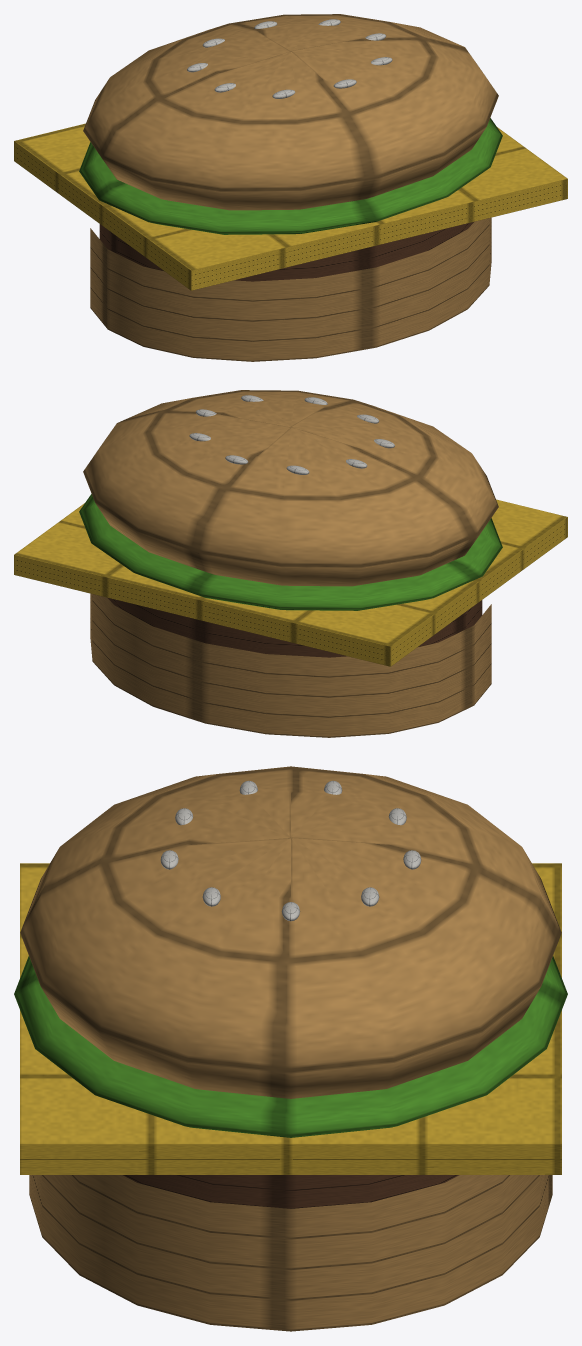
File: burger_combo.glb
3 views of the same model, one above another, from view 1: azimuth 30°, elevation 25°; view 2: azimuth 150°, elevation 25°; view 3: azimuth 270°, elevation 25° (orthographic). The views are drawn at different scales.
Visible parts, largest first — view 1: Top bun, Bottom bun, Melted cheese, Lettuce layer, Beef patty; view 2: Top bun, Bottom bun, Melted cheese, Lettuce layer, Beef patty; view 3: Top bun, Bottom bun, Melted cheese, Lettuce layer, Beef patty.
Part boxes in pixels (<box>): Top bun: <box>83,14,498,210</box>; Bottom bun: <box>90,217,491,361</box>; Melted cheese: <box>14,123,567,290</box>; Lettuce layer: <box>79,118,502,234</box>; Beef patty: <box>99,222,473,281</box>; Top bun: <box>83,390,498,586</box>; Bottom bun: <box>90,593,491,737</box>; Melted cheese: <box>14,499,567,666</box>; Lettuce layer: <box>79,494,502,610</box>; Beef patty: <box>108,598,482,657</box>; Top bun: <box>20,766,561,1098</box>; Bottom bun: <box>29,1175,552,1331</box>; Melted cheese: <box>20,863,561,1174</box>; Lettuce layer: <box>14,956,567,1137</box>; Beef patty: <box>123,1175,458,1208</box>.
Size of the model in its own units: 1.1 by 0.64 by 0.9.
5 materials, 5 textured.
